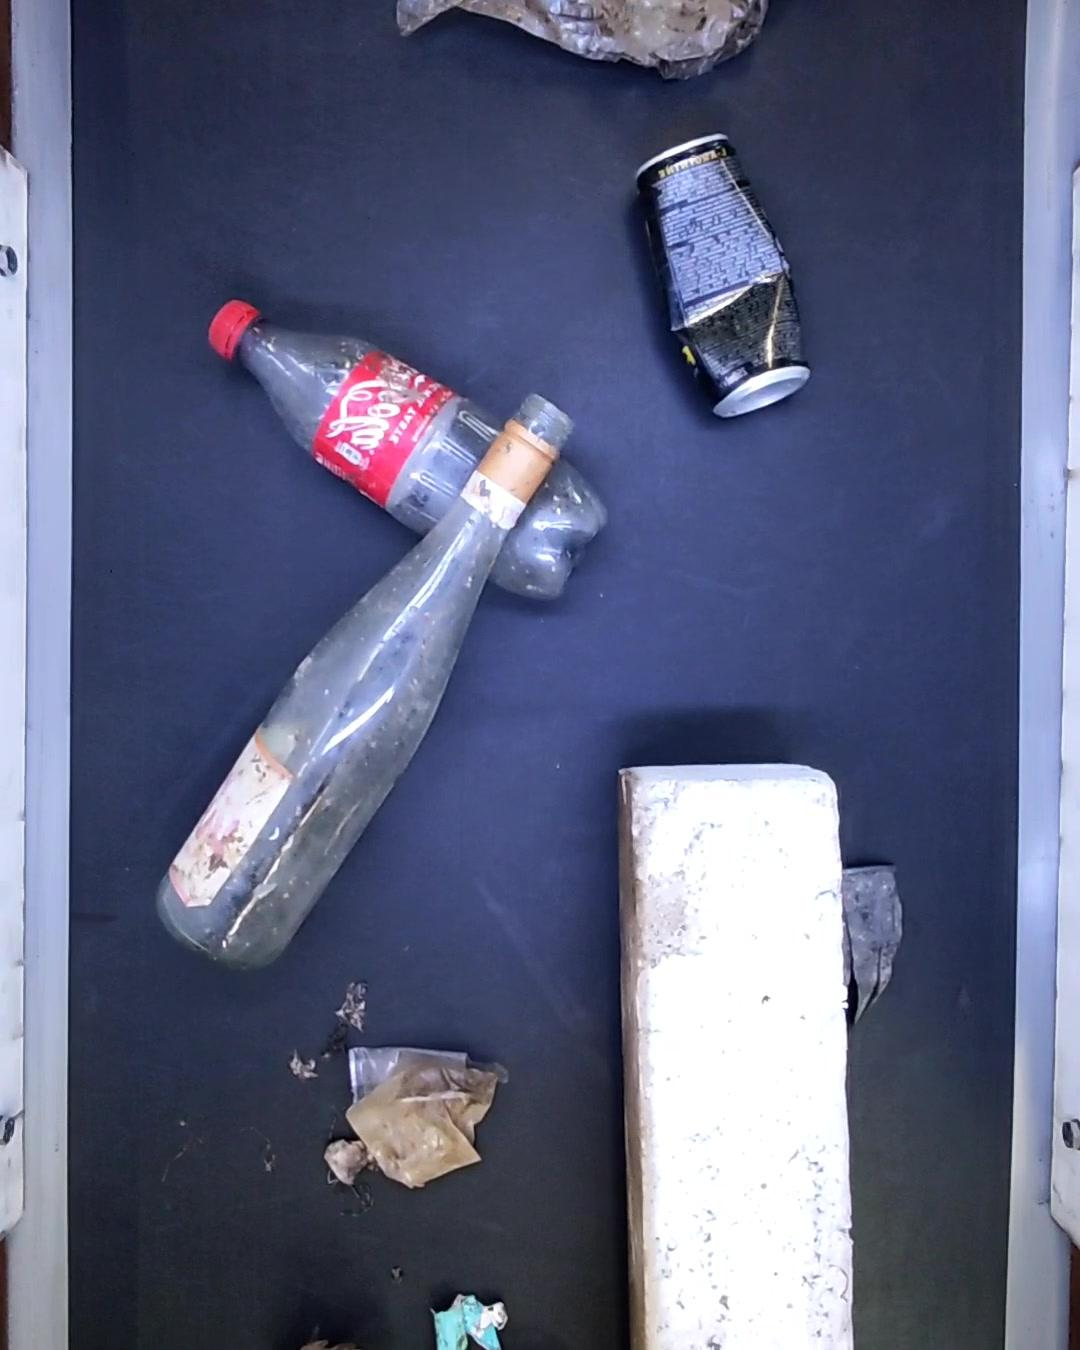Drankblikjes: (626, 131, 820, 418)
Drankflessen - 1-2 liter: (201, 300, 603, 597)
Plastic folies of stukken daarvan 2.5- 50 cm: (392, 0, 773, 77), (343, 1062, 492, 1192), (344, 1035, 507, 1119)
